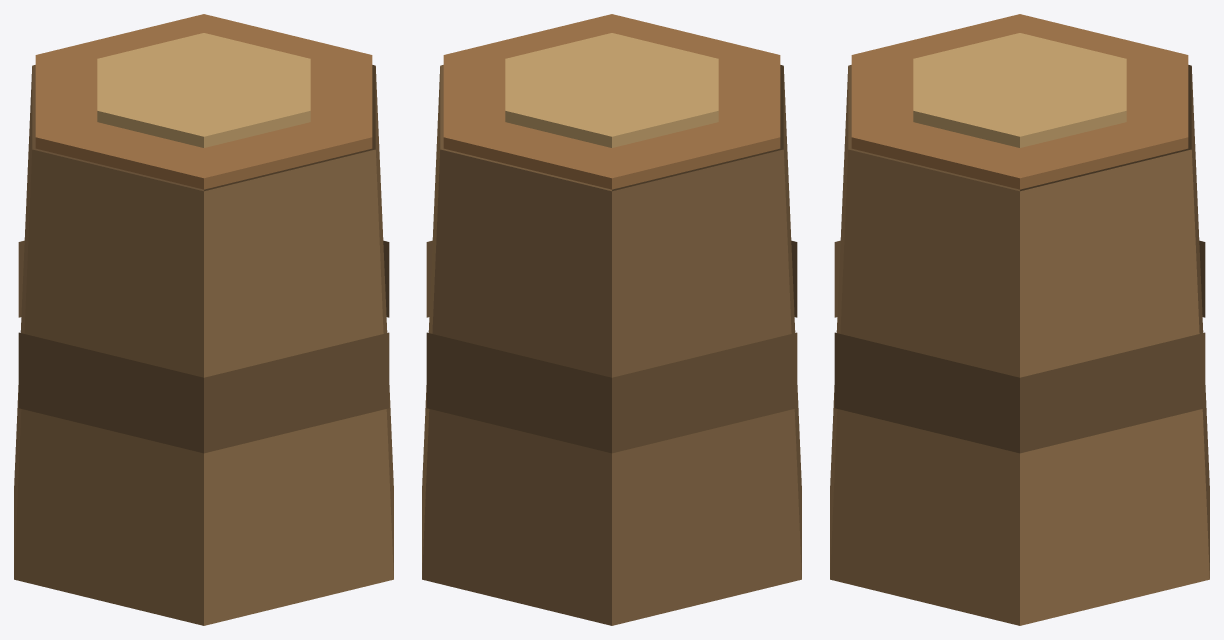
File: palm_stump.glb
3 renders of one model, left to right at view 1: azimuth 30°, elevation 25°; view 2: azimuth 150°, elevation 25°; view 3: azimuth 270°, elevation 25°, orthographic.
Visible parts, largest first — view 1: palm_stump; view 2: palm_stump; view 3: palm_stump.
Part boxes in pixels (left/top/right/bottom): palm_stump: left=14, top=14, right=393, bottom=625; palm_stump: left=422, top=14, right=801, bottom=625; palm_stump: left=830, top=14, right=1209, bottom=625.
Size of the model in its own units: 0.42 by 0.474 by 0.3637.
Materials: 1 (1 with a texture image).
